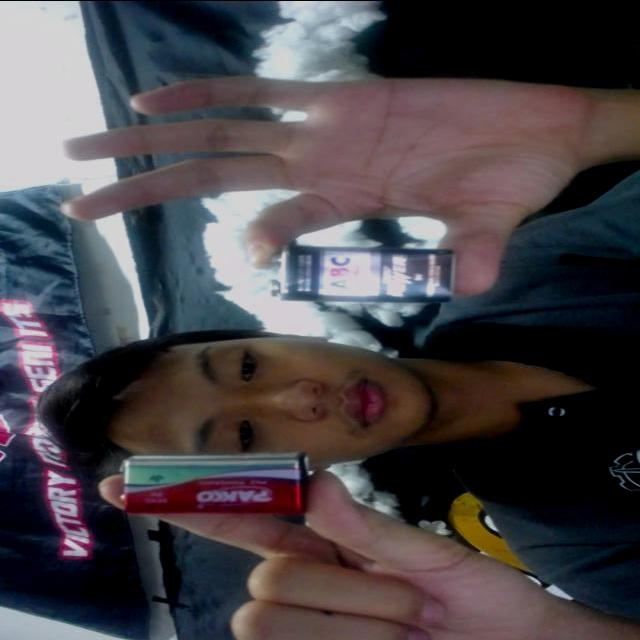9V: (108, 441, 325, 524), (260, 239, 476, 309)
